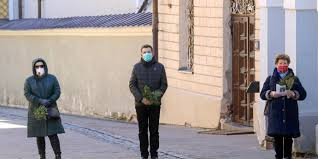Good: (128, 44, 309, 158), (23, 44, 169, 159)
